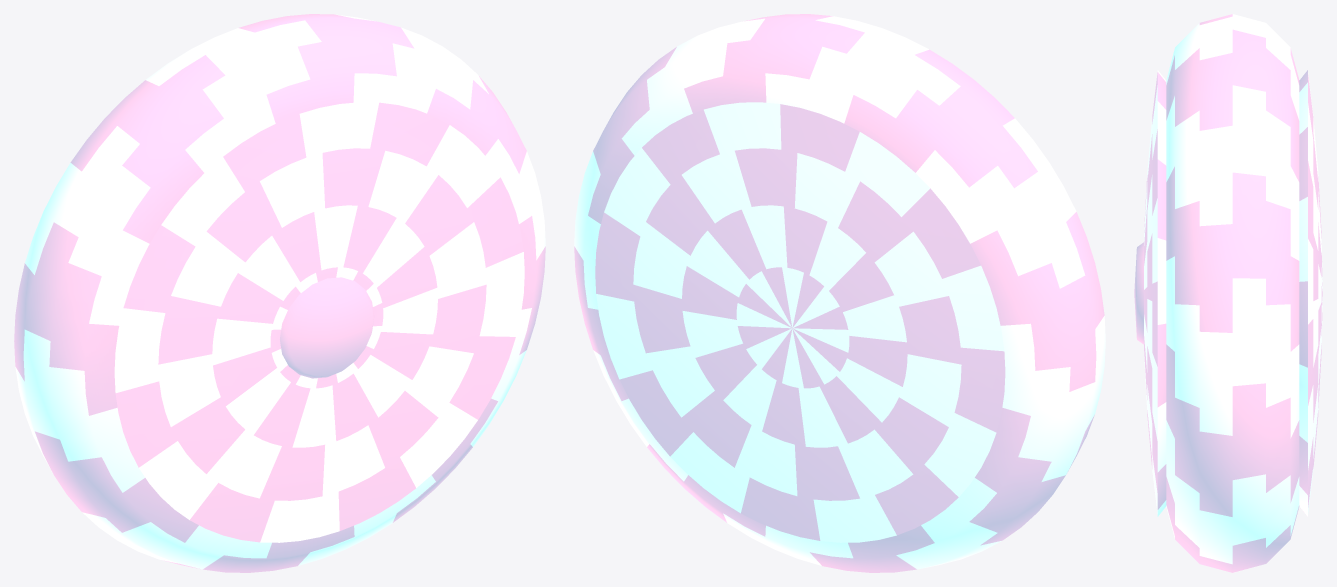
The model's file is props__CandySwirl.glb.
The picture shows the model from 3 angles, left to right: view 1: azimuth 30°, elevation 25°; view 2: azimuth 150°, elevation 25°; view 3: azimuth 270°, elevation 25°; orthographic projection. The views are drawn at different scales.
Parts seen in each view (by area): view 1: CandySwirl; view 2: CandySwirl; view 3: CandySwirl.
Boxes of the visible parts, x1,y1,x2,y2 form: CandySwirl: (14, 14, 545, 572); CandySwirl: (574, 14, 1105, 572); CandySwirl: (1134, 14, 1322, 572).
Size of the model in its own units: 8.4 by 8.4 by 2.83.
